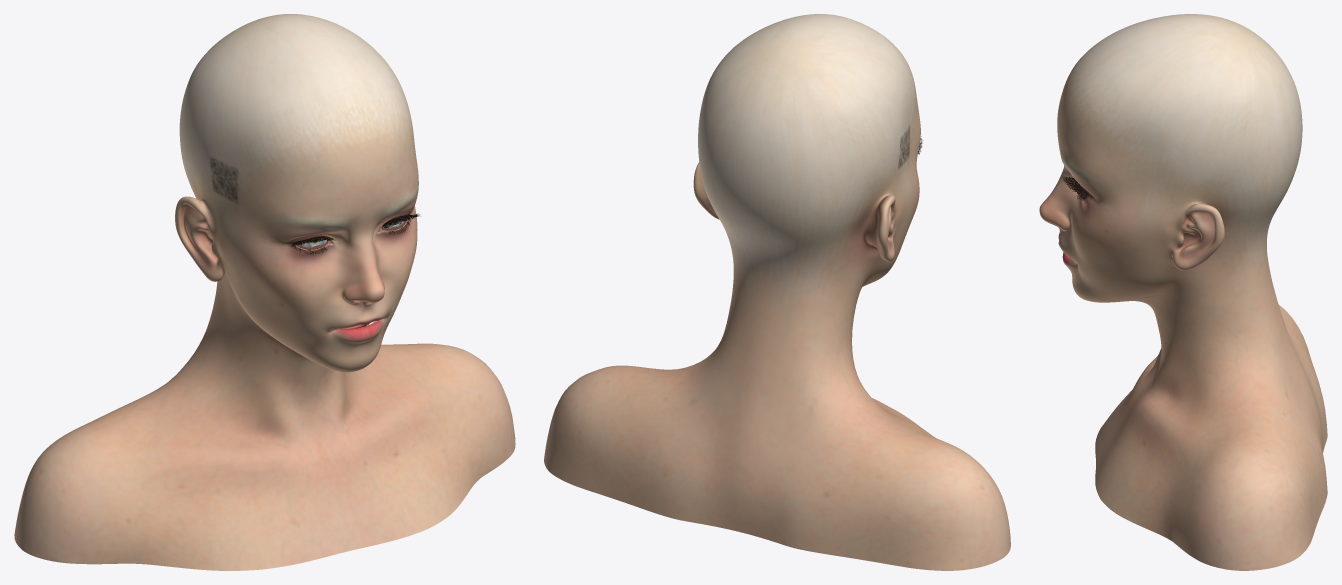
The model's file is female-portrait.glb.
The picture shows the model from 3 angles, left to right: view 1: azimuth 30°, elevation 25°; view 2: azimuth 150°, elevation 25°; view 3: azimuth 270°, elevation 25°; orthographic projection. The views are drawn at different scales.
Visible parts, largest first — view 1: Skin, Lashes; view 2: Skin; view 3: Skin.
Boxes of the visible parts, x1,y1,x2,y2 form: Skin: (14,14,515,570); Lashes: (291,213,419,255); Skin: (544,14,1010,570); Skin: (1039,14,1327,570).
Bounding box in the file's own units: 0.8667 × 0.8338 × 0.4925.
Materials: 4 (3 with a texture image).
